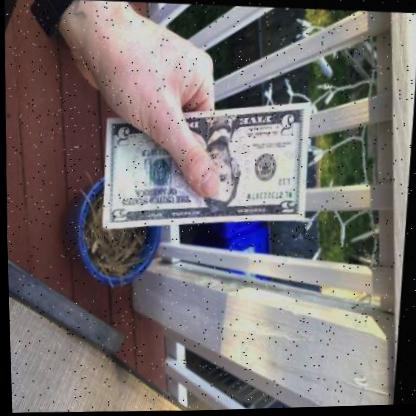five-front: (103, 101, 309, 228)
